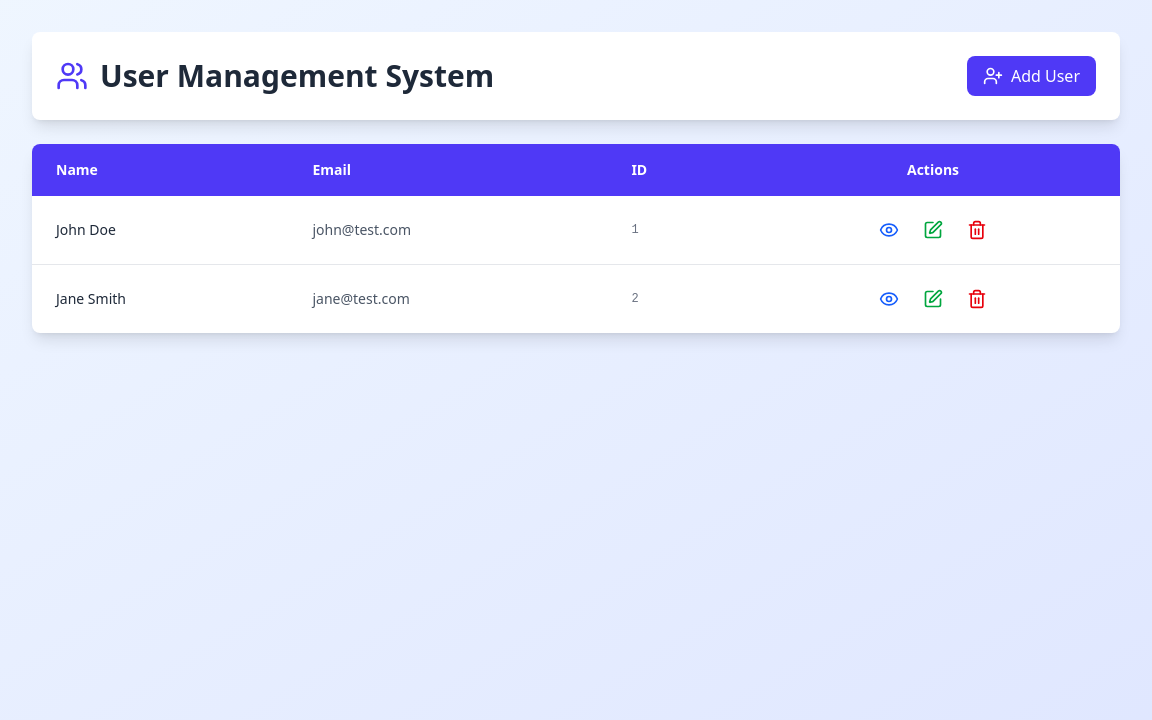
App Component - Integration Tests › should open edit modal when edit button is clicked
Expected: the text "John Doe" is shown, [32, 196, 288, 264]
Click the button named "Edit John Doe" at {"x": 933, "y": 230}, box [915, 212, 951, 248]
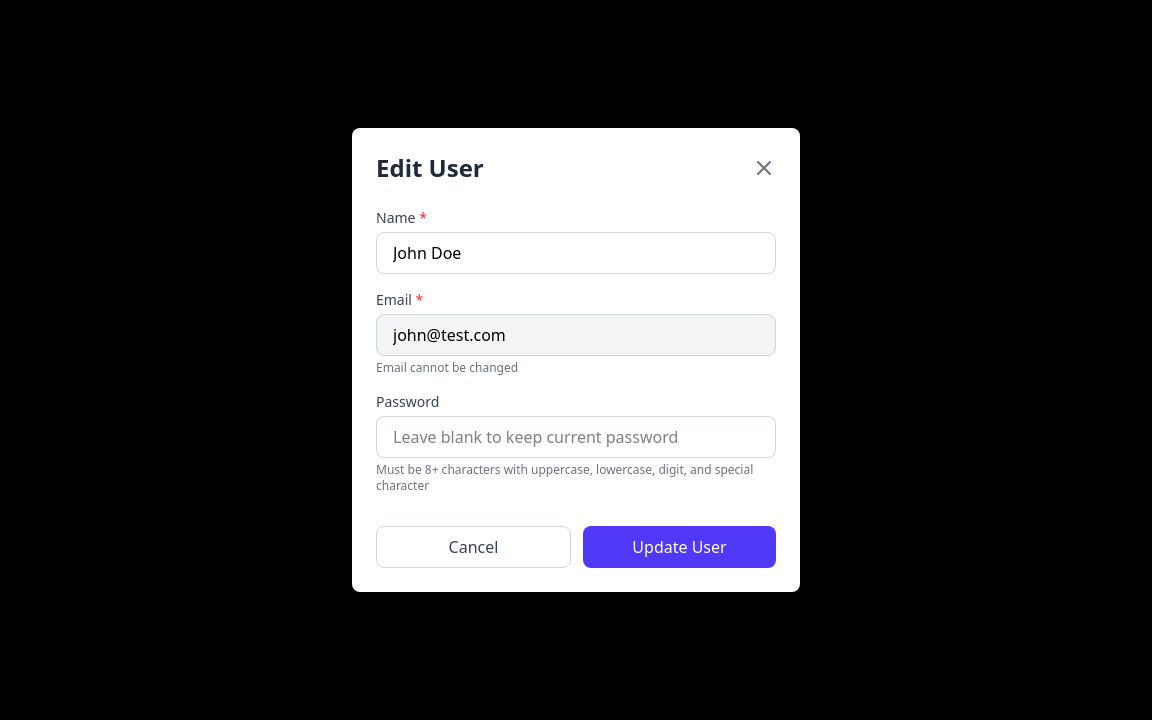
Result: the heading "Edit User" is shown at [376, 152, 484, 184]
Result: the field showing "John Doe" is shown at [376, 232, 776, 274]
